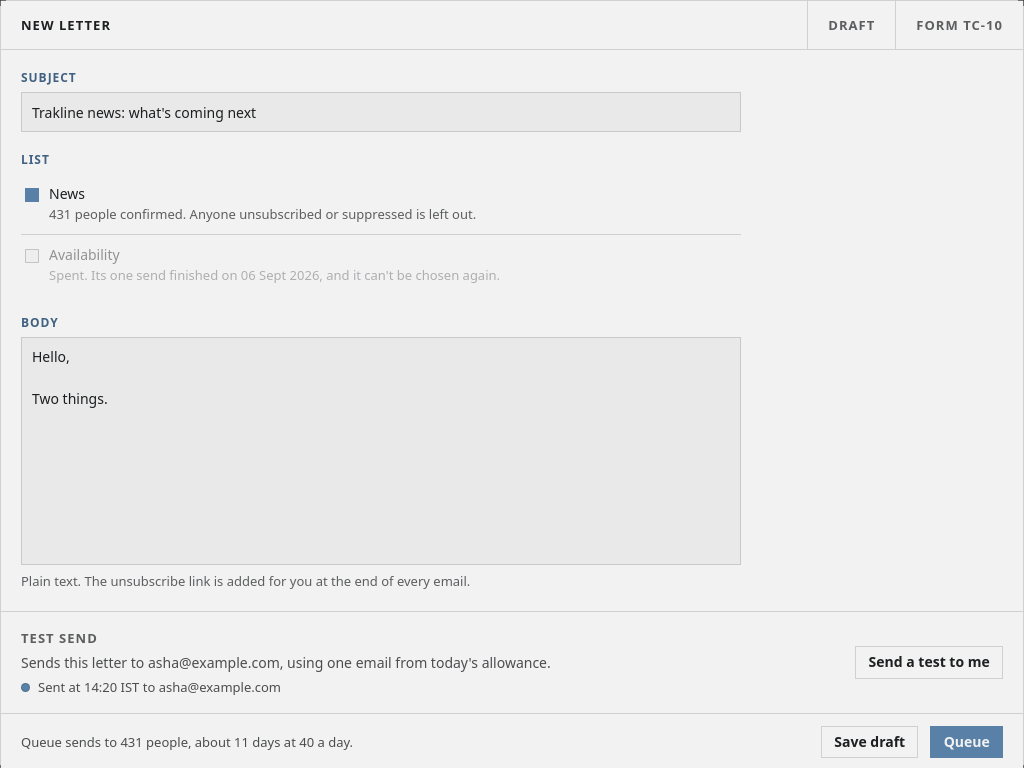
Test: a tested draft › goes back to needing a save the moment its words change
This screenshot has width=1024, height=768.
Step 1. Type " More." into the text box labelled "Body" → (381, 451), box [21,337,741,565]
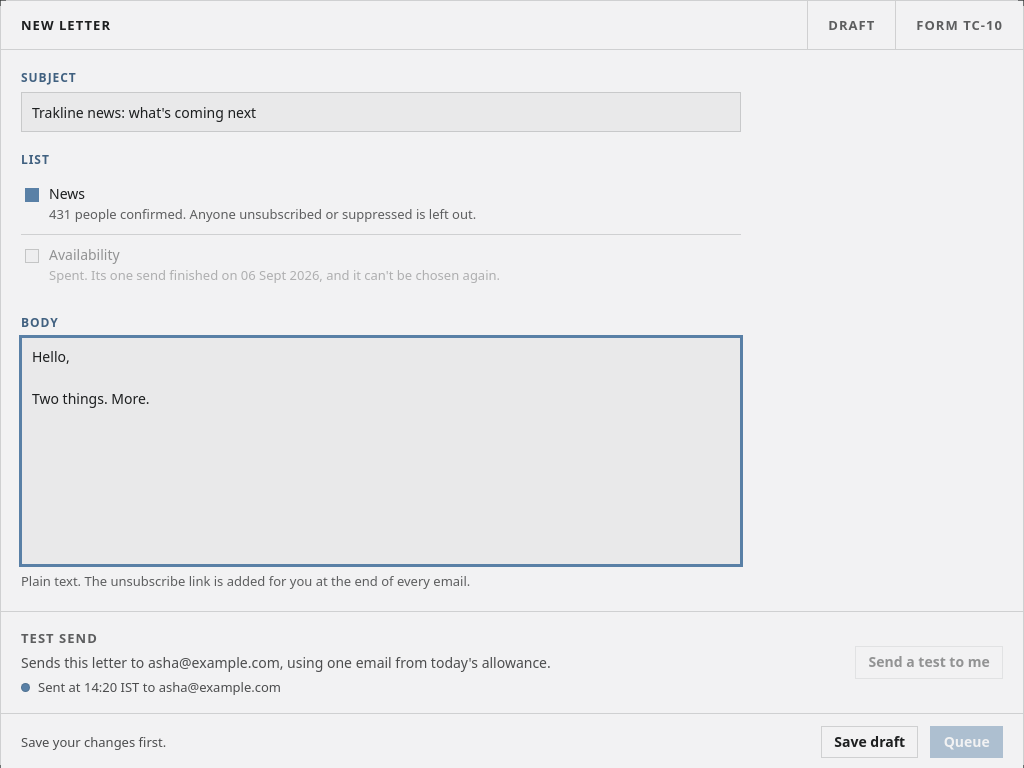
Now the button "Queue" is disabled, box [930,726,1003,758]
Now the button "Send a test to me" is disabled, box [855,646,1003,679]
